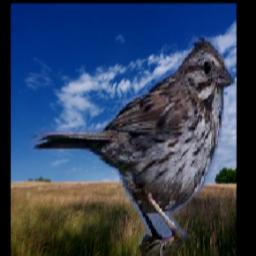Sparrow: (29, 32, 237, 256)
